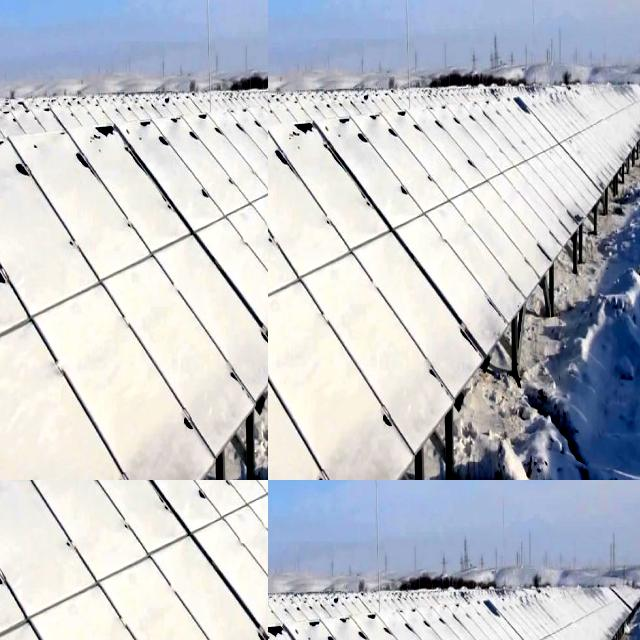bird: (278, 211, 348, 290), (268, 398, 310, 480), (424, 227, 472, 288), (322, 380, 377, 422), (533, 8, 562, 70), (268, 280, 286, 314)
panel: (268, 590, 397, 629), (514, 598, 592, 640), (268, 598, 339, 640), (416, 610, 505, 640)
